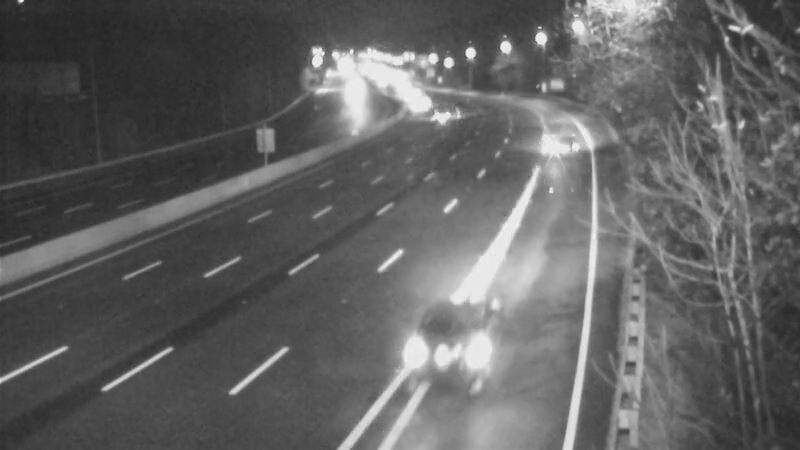vehicle: (393, 301, 503, 411), (391, 77, 441, 127), (417, 88, 467, 138), (535, 120, 585, 170)
